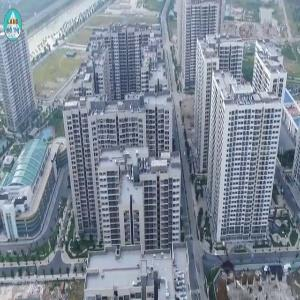drone: (208, 241, 262, 295)
